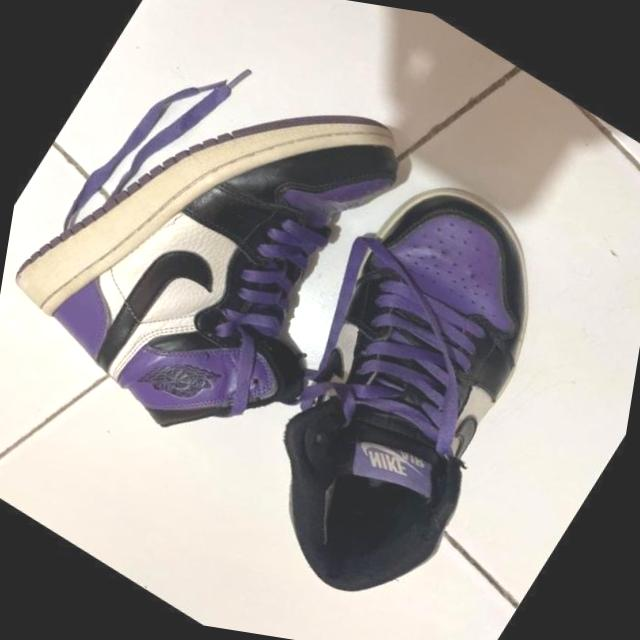nike_fake_jordan: (192, 140, 629, 640)
nike_original_jordan: (0, 78, 411, 497)
